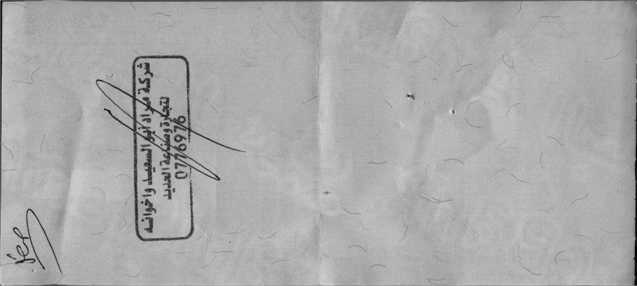stamp: (131, 54, 194, 242)
